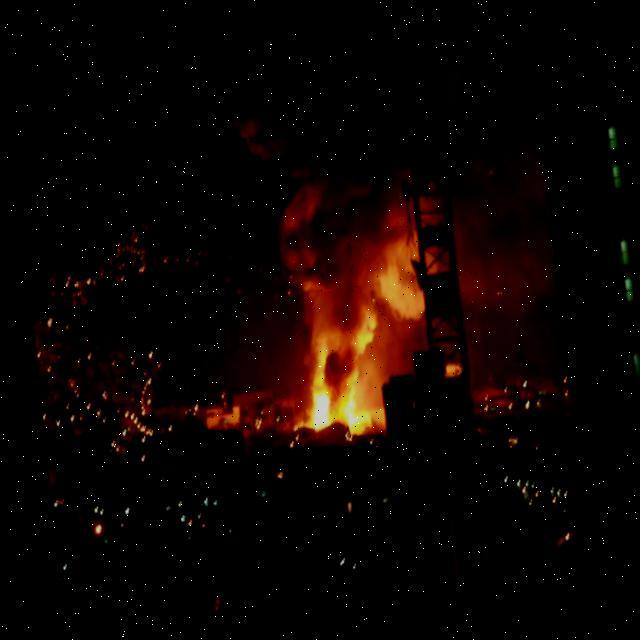Fire: (289, 379, 350, 442)
